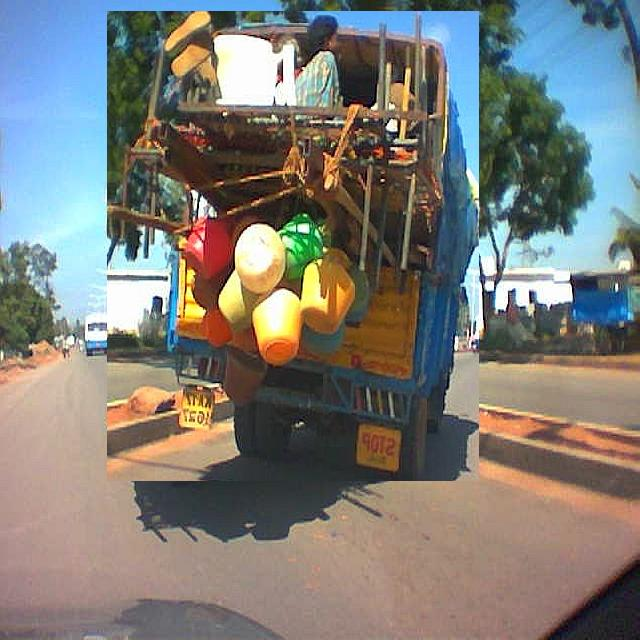truck: (108, 11, 479, 481)
